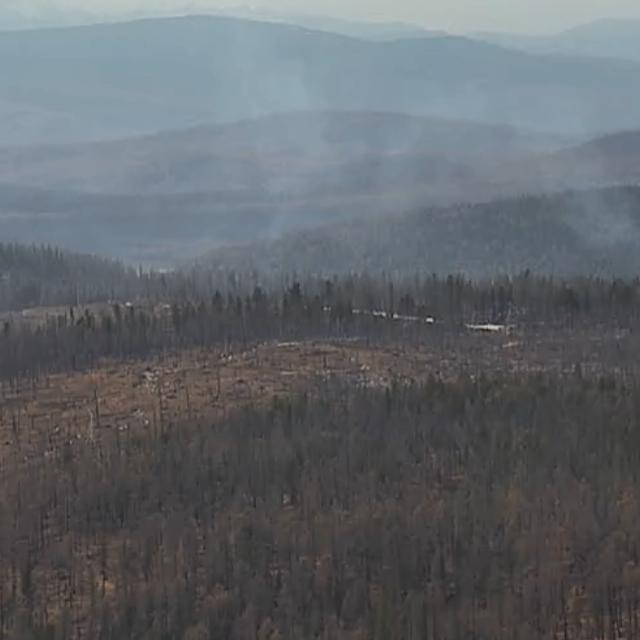Smoke: (0, 43, 640, 295)
